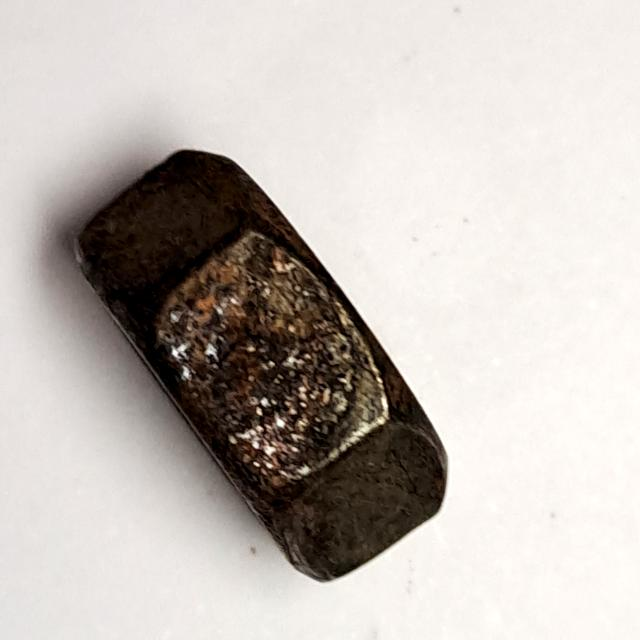Side_Rust: (59, 138, 469, 595)
